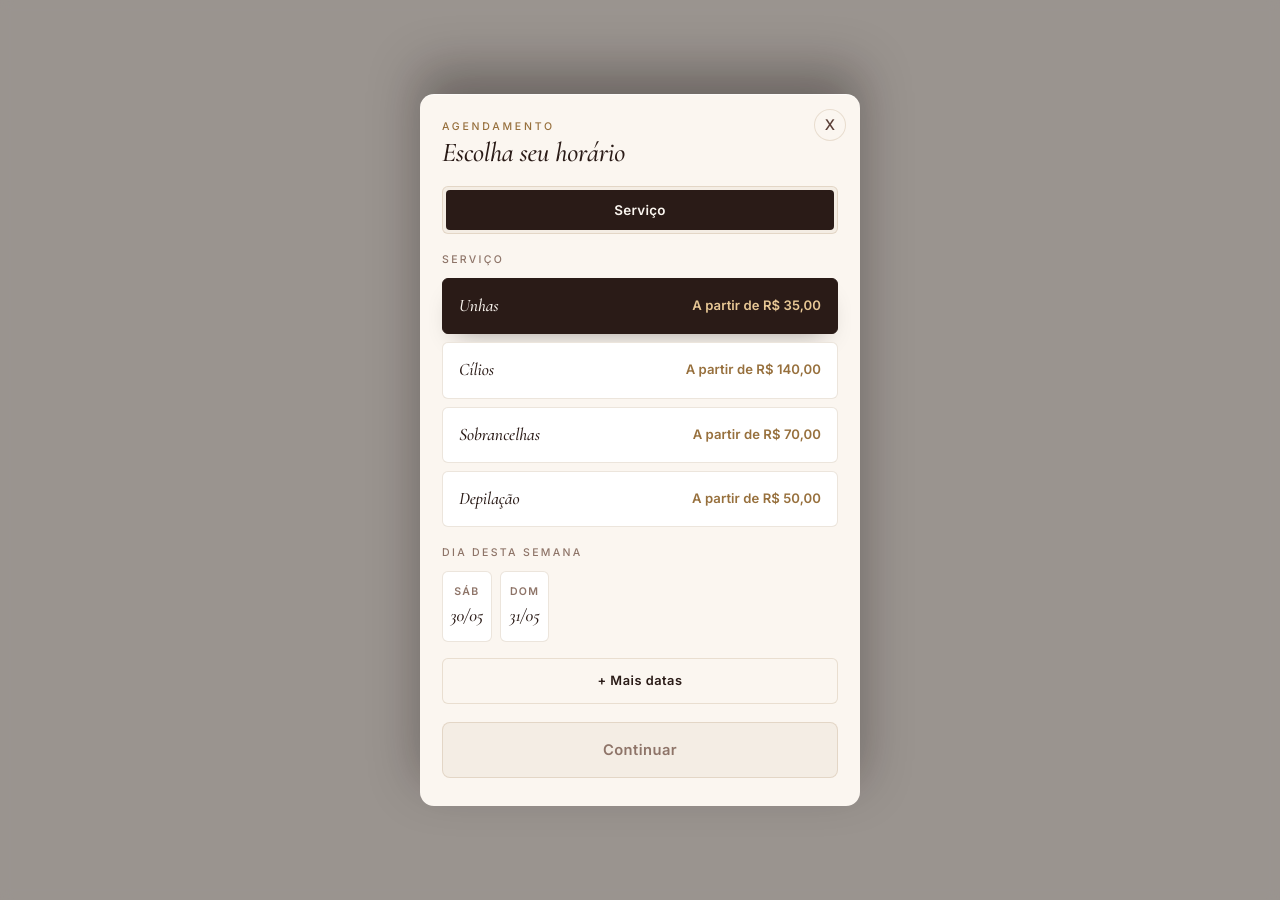
Test case: AgendamentoModal — duração dinâmica › exibe a duração real do serviço (90 min = 1h30min), não "2h30"
The width and height of the screenshot is (1280, 900).
Click the button "sáb 30/05". click: point(467, 607)
box: [442, 571, 492, 642]
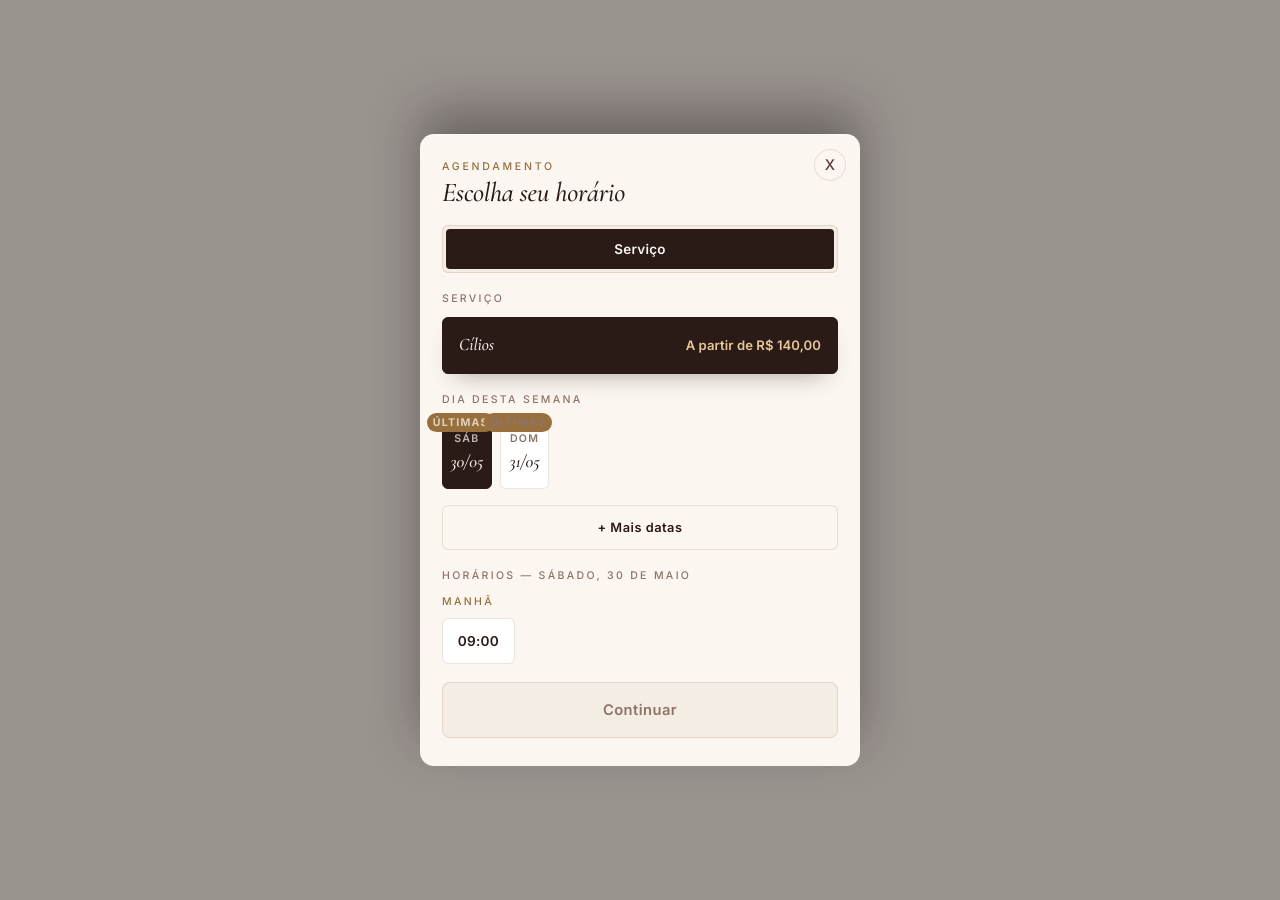
Click the button "09:00". click: point(478, 641)
box: [442, 618, 515, 664]
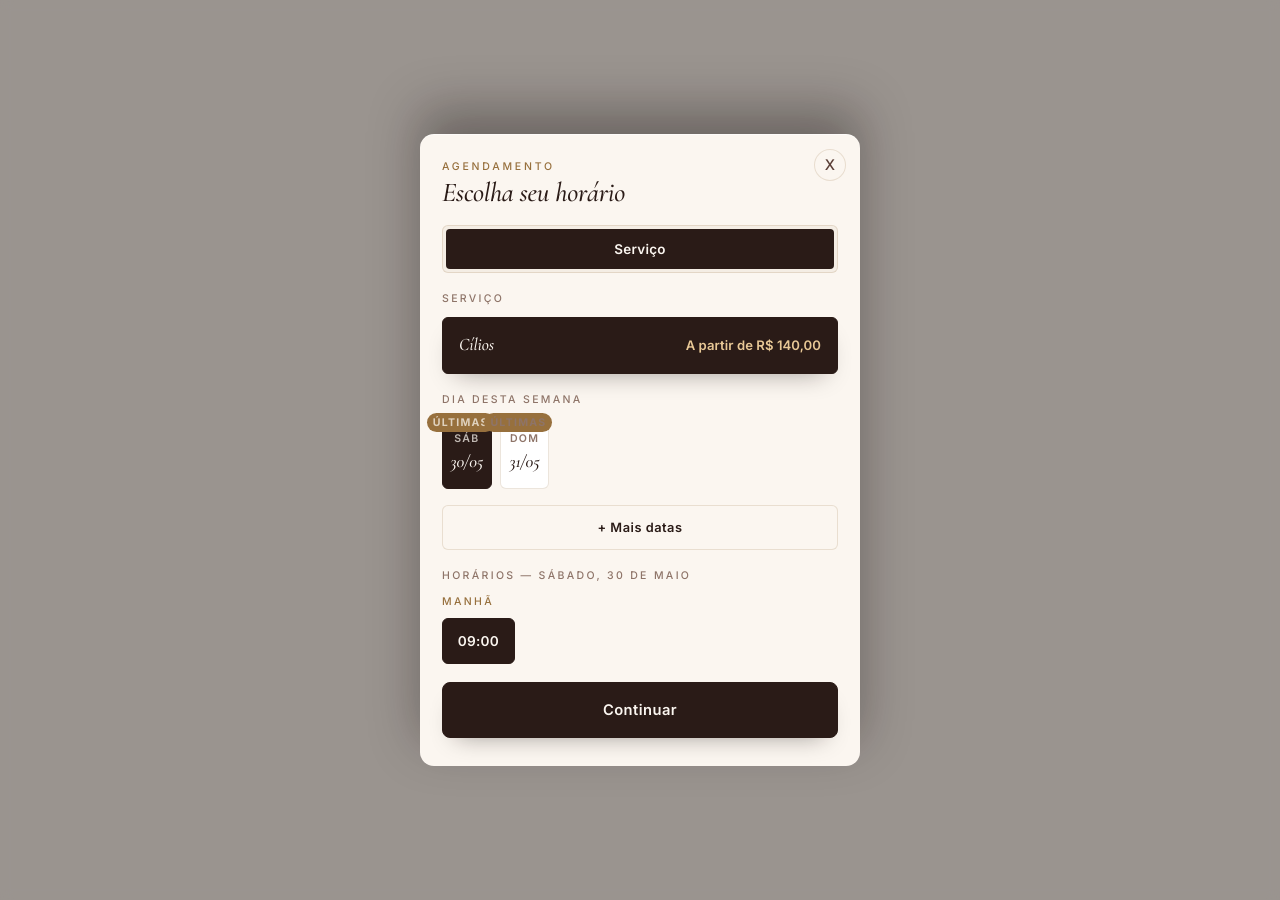
Click the button "Continuar". click: point(640, 710)
box: [442, 682, 838, 738]
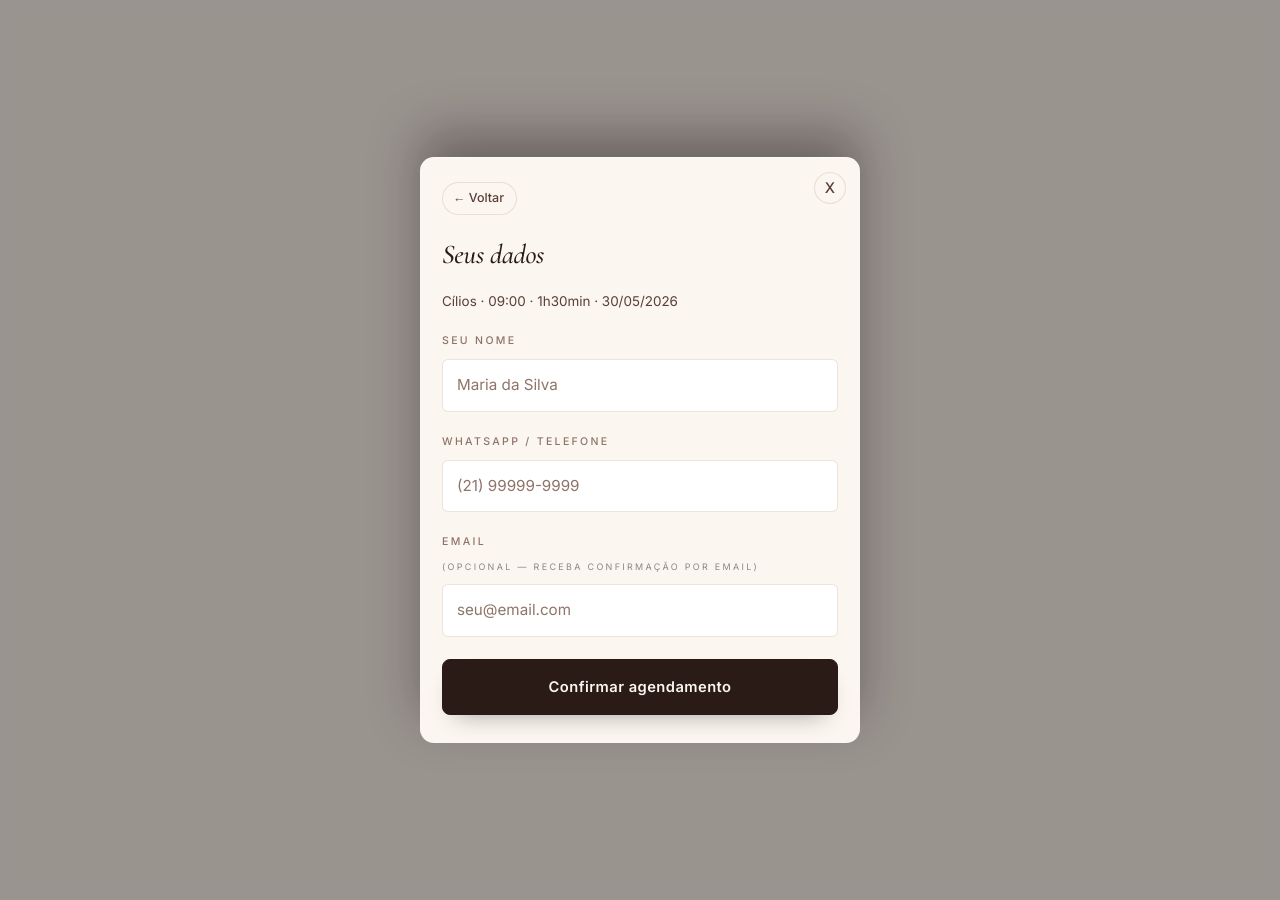
Expected: the text "Cílios · 09:00 · 1h30min · 30/05/2026" is shown, [442, 293, 678, 309]
